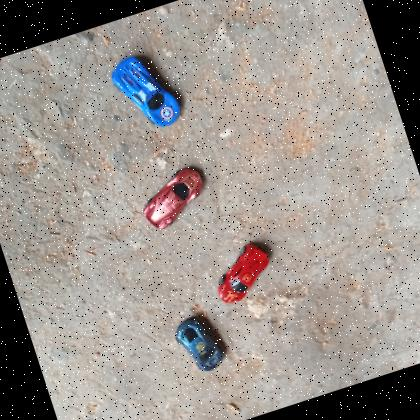Car: (106, 45, 186, 140), (133, 162, 215, 234), (205, 236, 279, 307), (168, 309, 229, 381)
